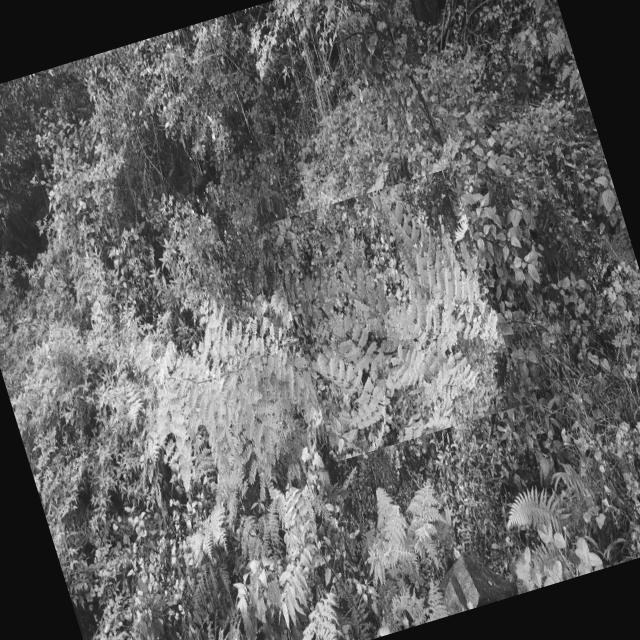Mysore-Thorn-Weed: (264, 167, 524, 462), (109, 280, 350, 514)
